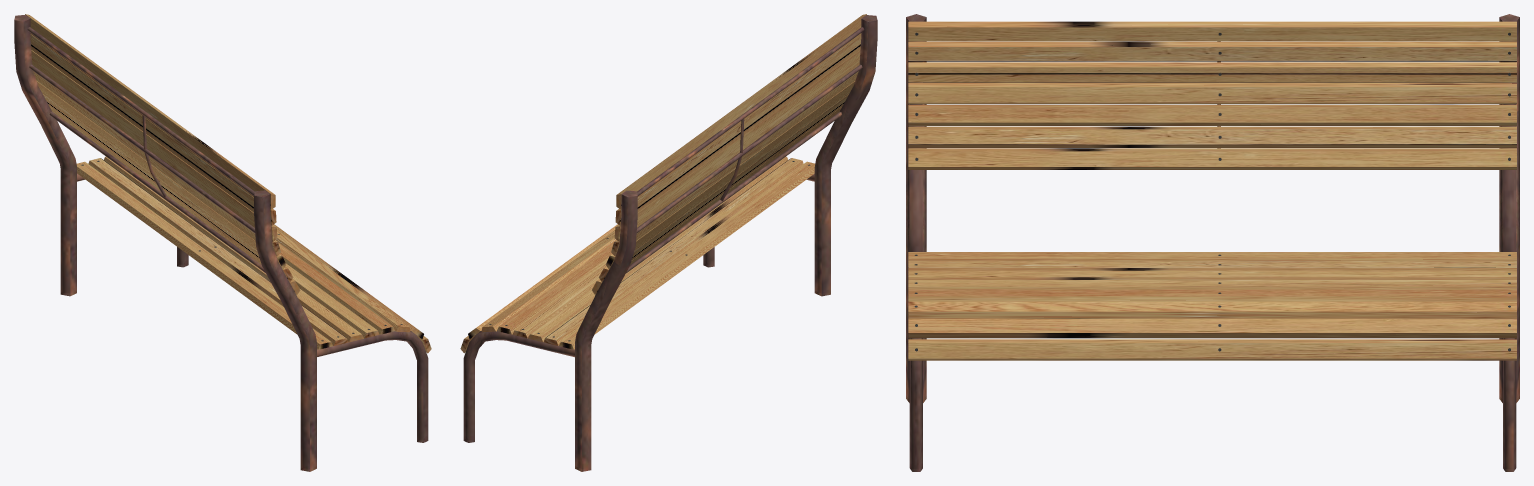
Rendered from Bench.FBX.
3 renders of one model, left to right at view 1: azimuth 30°, elevation 25°; view 2: azimuth 150°, elevation 25°; view 3: azimuth 270°, elevation 25°, orthographic. The views are drawn at different scales.
Visible parts, largest first — view 1: Bench; view 2: Bench; view 3: Bench.
Boxes of the visible parts, x1,y1,x2,y2 form: Bench: (14,14,431,471); Bench: (460,14,877,471); Bench: (906,14,1519,471).
Size of the model in its own units: 1461 by 3604 by 2296.
Materials: 1 (1 with a texture image).
